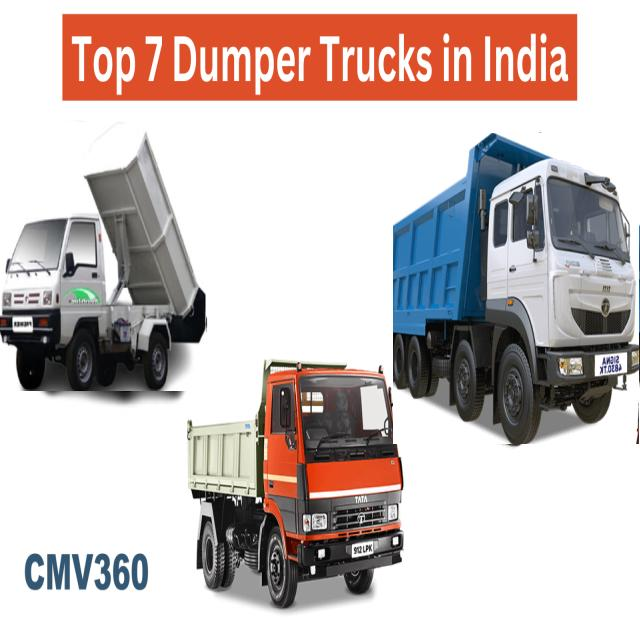truck: (394, 134, 639, 444), (0, 122, 206, 391), (188, 360, 404, 607)
